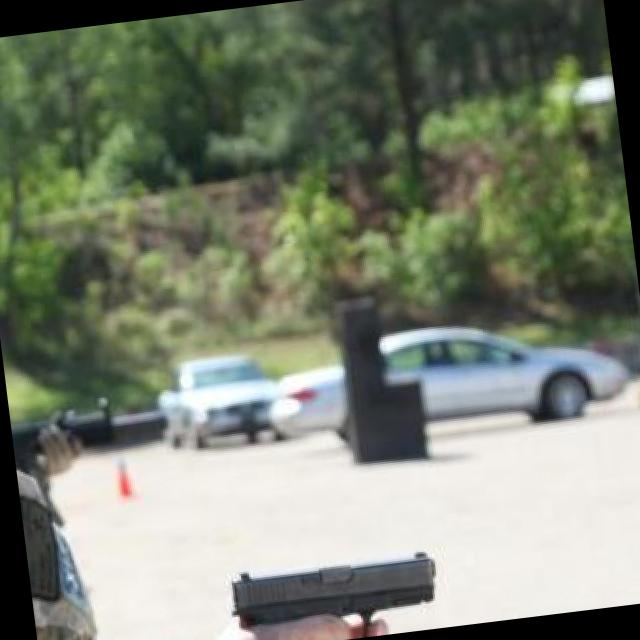Guns: (205, 523, 452, 640)
